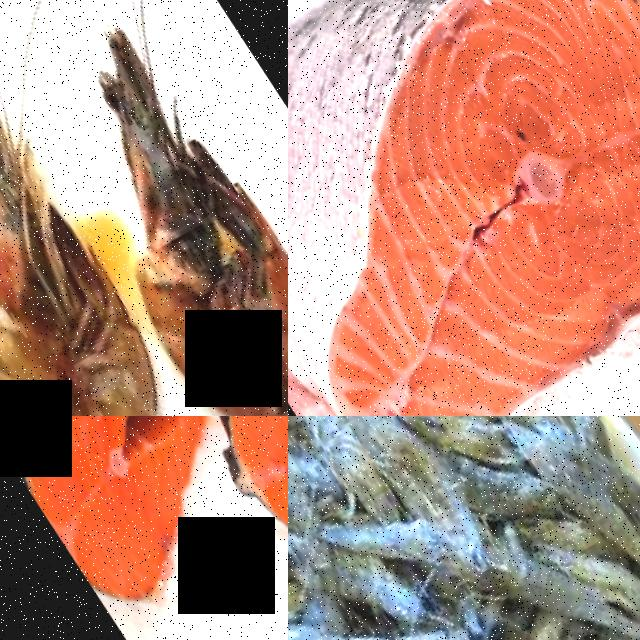salmon: (288, 0, 640, 416), (0, 416, 278, 619), (168, 416, 288, 572)
shrimp: (0, 3, 288, 416), (0, 60, 215, 416), (480, 519, 640, 640), (288, 416, 404, 539)
